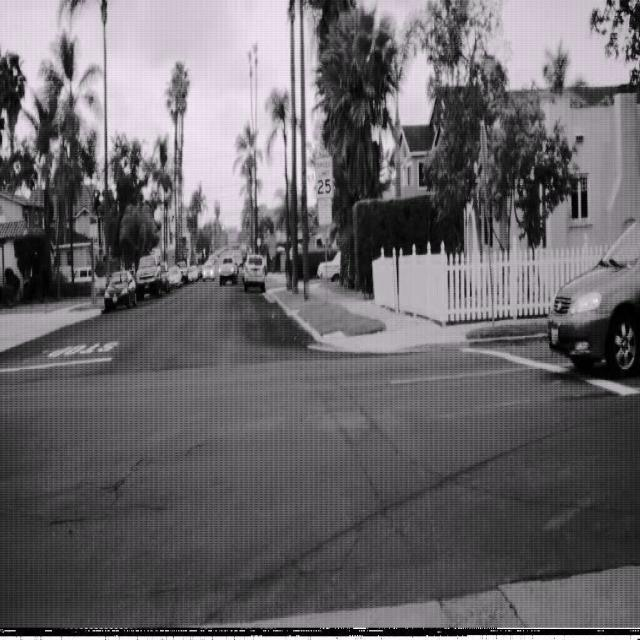speedLimit25: (314, 153, 334, 201)
